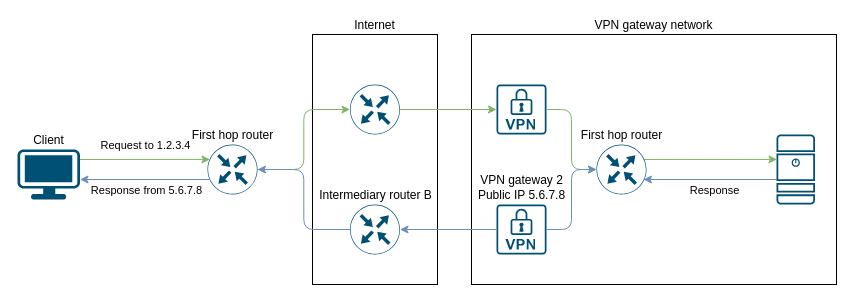
This 854x302 diagram has some shape labels left out. The shapes that lost their labels are listed below. From the top down, each one's centre as x and y in pixels, then its label:
At pixel 374 109: "Intermediary router A".
At pixel 521 109: "VPN gateway 1 Public IP 1.2.3.4".
At pixel 795 169: "Server".
